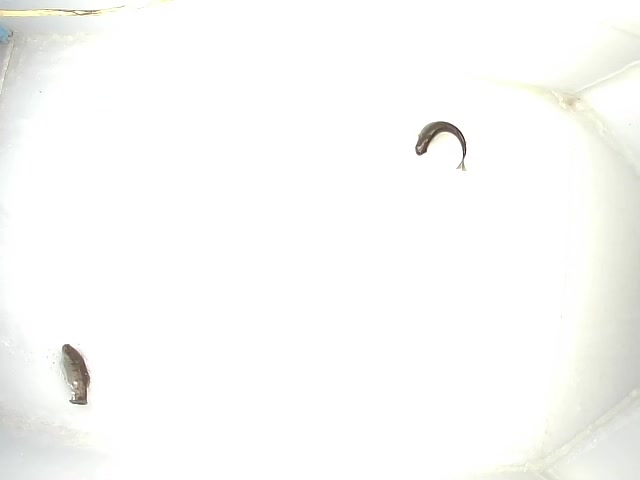fish: (414, 119, 468, 174), (56, 342, 92, 408)
